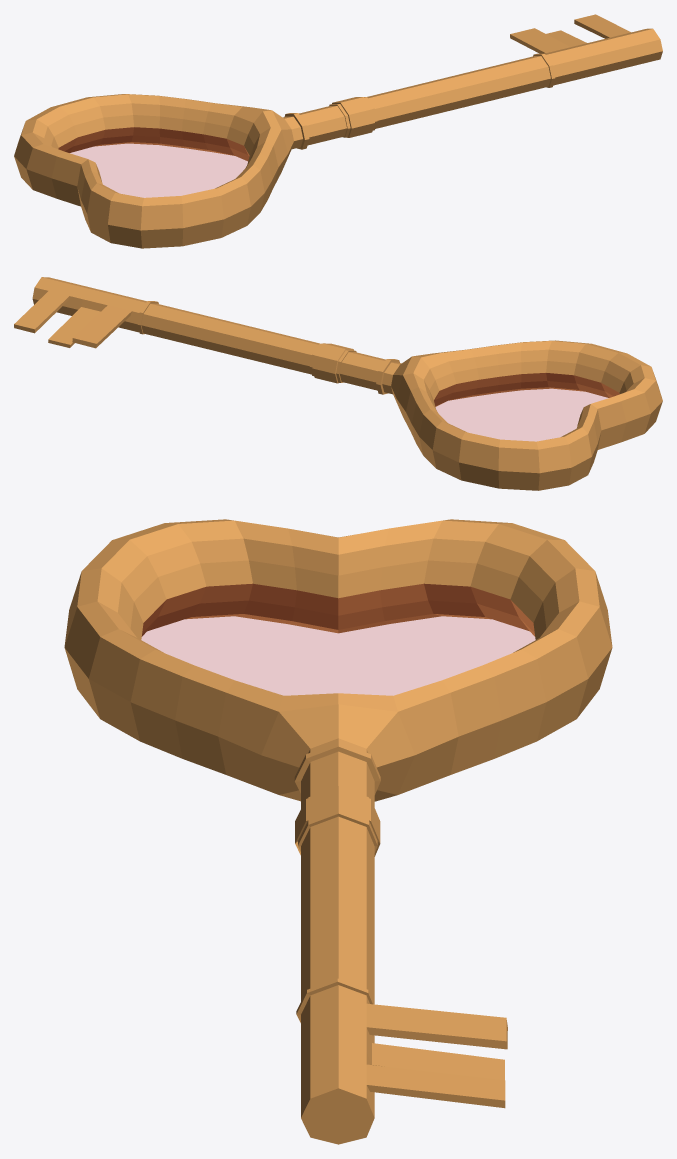
Rendered from Chave3.fbx.
3 renders of one model, top to bottom at view 1: azimuth 30°, elevation 25°; view 2: azimuth 150°, elevation 25°; view 3: azimuth 270°, elevation 25°, orthographic. The views are drawn at different scales.
Parts seen in each view (by area): view 1: Chave 3; view 2: Chave 3; view 3: Chave 3.
Part boxes in pixels (x1,y1,x2,y2): Chave 3: [14, 14, 662, 248]; Chave 3: [14, 277, 662, 490]; Chave 3: [64, 519, 612, 1144].
Bounding box in the file's own units: 7.19 × 0.6748 × 2.94.
